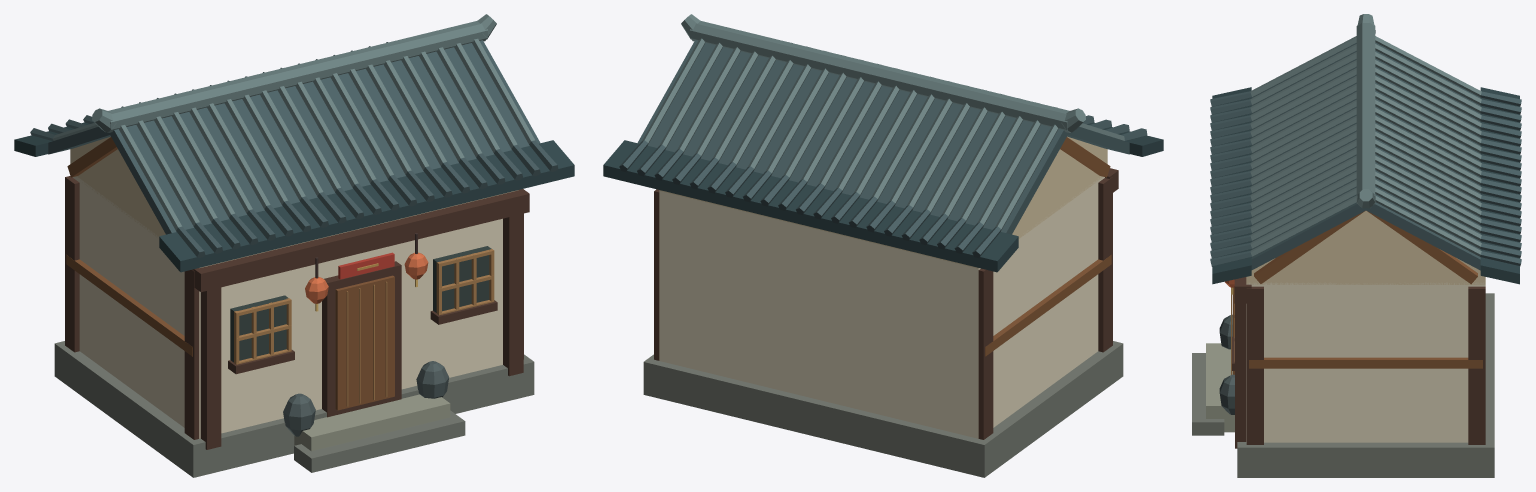
The model's file is house.glb.
The picture shows the model from 3 angles, left to right: view 1: azimuth 30°, elevation 25°; view 2: azimuth 150°, elevation 25°; view 3: azimuth 270°, elevation 25°; orthographic projection. The views are drawn at different scales.
Visible parts, largest first — view 1: body; view 2: body; view 3: body.
Boxes of the visible parts, bbox=[...] form: body: bbox=[14, 14, 574, 477]; body: bbox=[603, 14, 1163, 477]; body: bbox=[1192, 14, 1521, 477].
Size of the model in its own units: 3.32 by 2.55 by 2.55.
